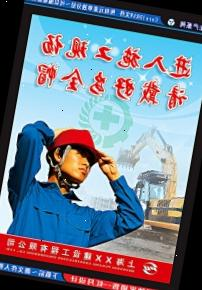helmet: (44, 122, 108, 163)
wear: (7, 182, 104, 250)
